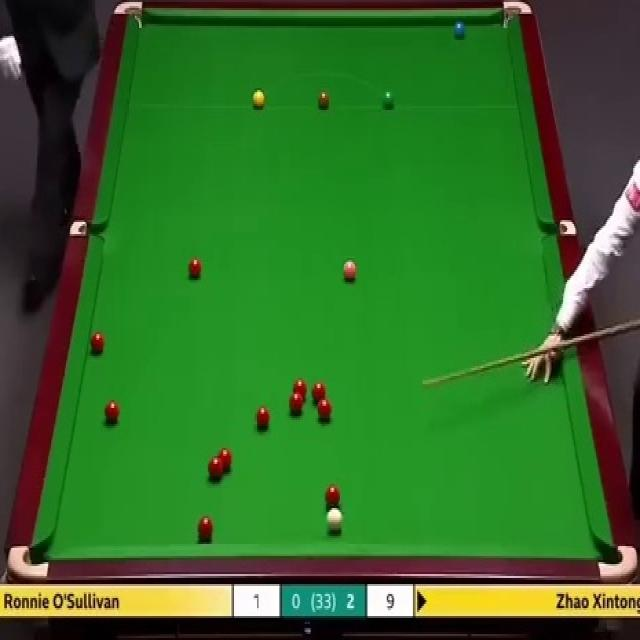blue-ball: (454, 22, 466, 41)
brown-ball: (317, 90, 330, 109)
green-ball: (381, 90, 394, 109)
pink-ball: (342, 262, 358, 284)
red-ball: (102, 398, 119, 423), (199, 516, 214, 542), (208, 456, 224, 480), (317, 396, 331, 421), (327, 485, 340, 511), (90, 331, 104, 355), (255, 404, 269, 428), (218, 448, 232, 471), (290, 394, 305, 415), (292, 378, 307, 399), (312, 381, 326, 403), (188, 260, 202, 278)
white-ball: (326, 508, 342, 532)
yellow-ball: (252, 90, 265, 109)
